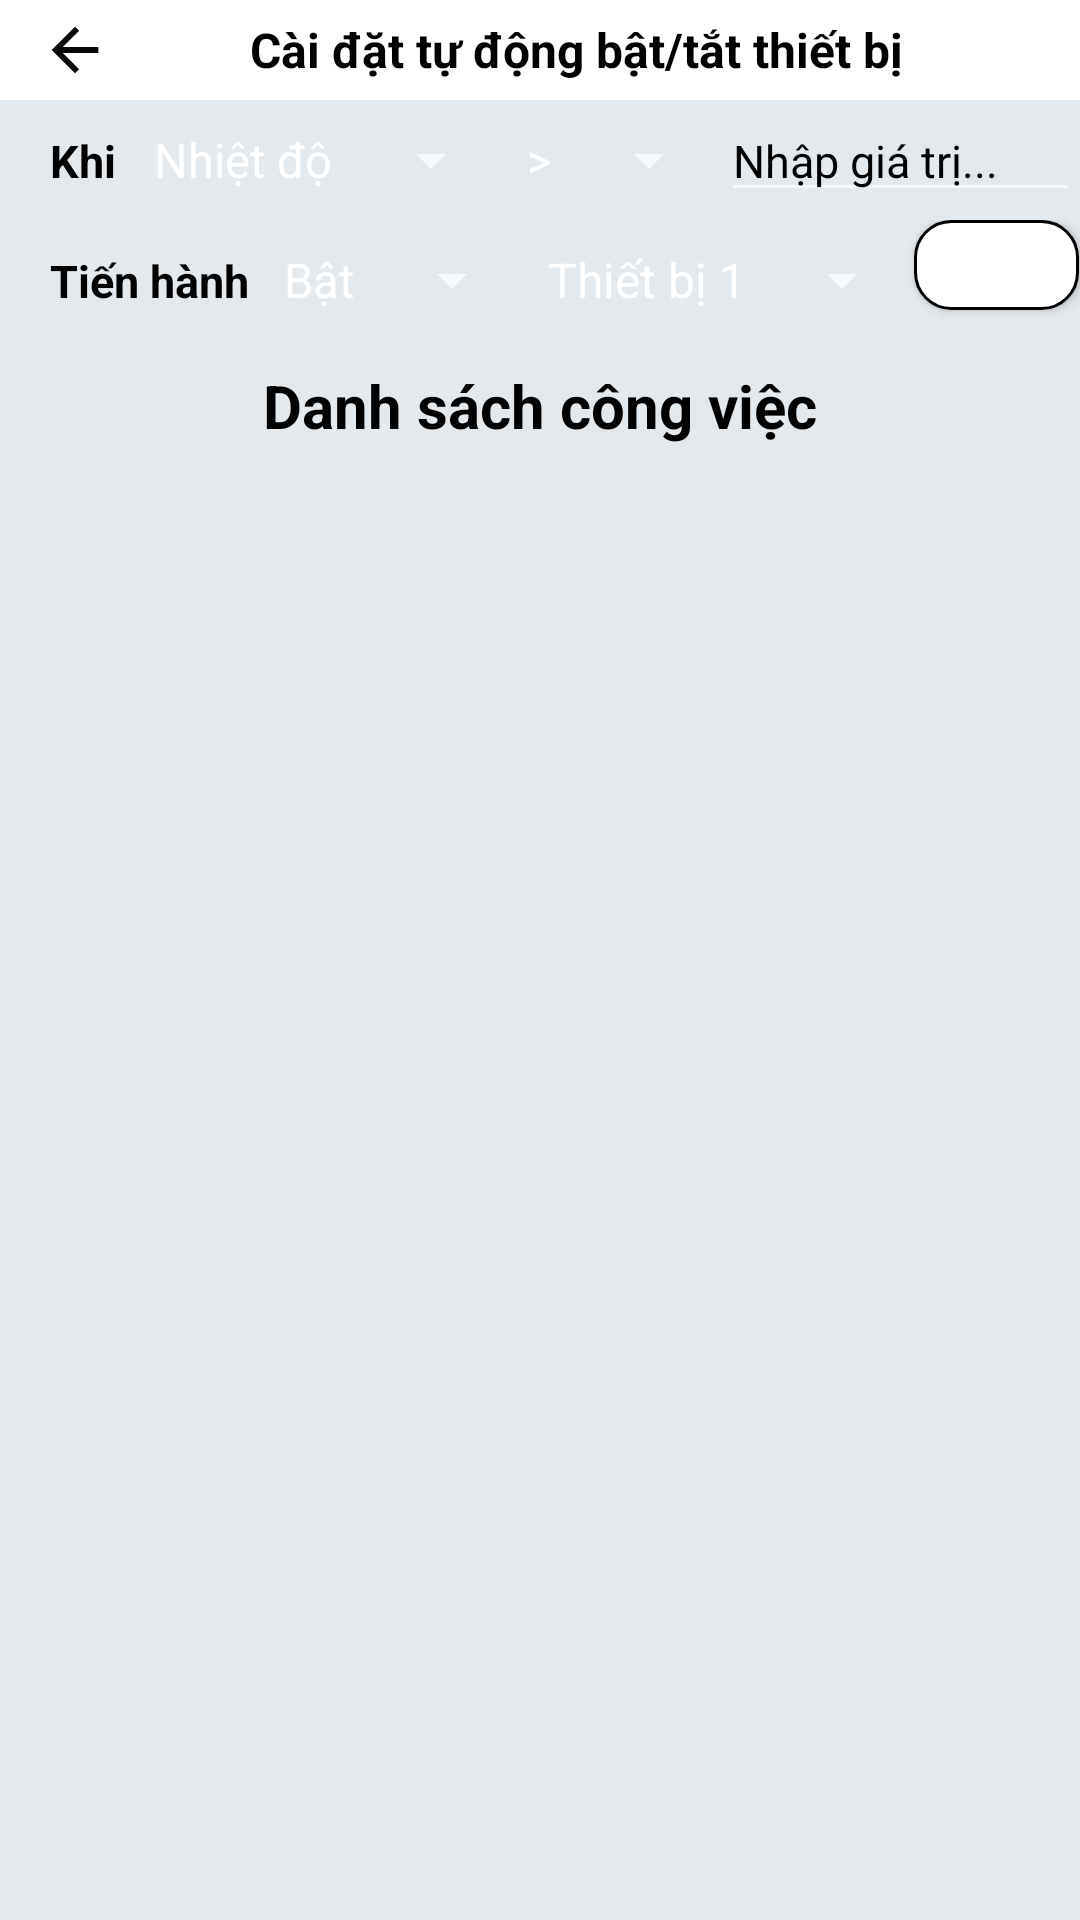

Named icons in this screenshot (1080x1920) and their centers, (x,y):
leftarrow: (75,50)
